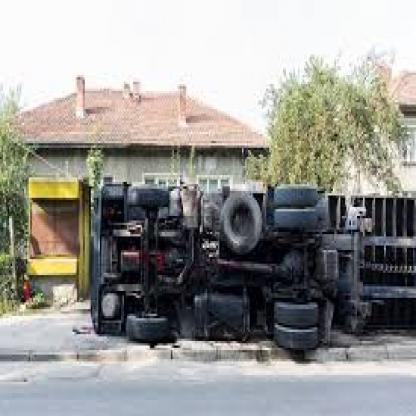accident: (24, 127, 416, 361)
